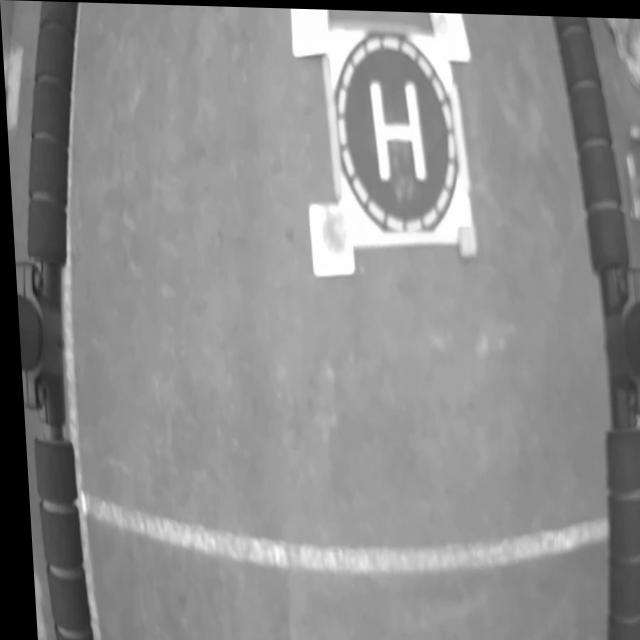Helipad: (368, 80, 425, 179)
